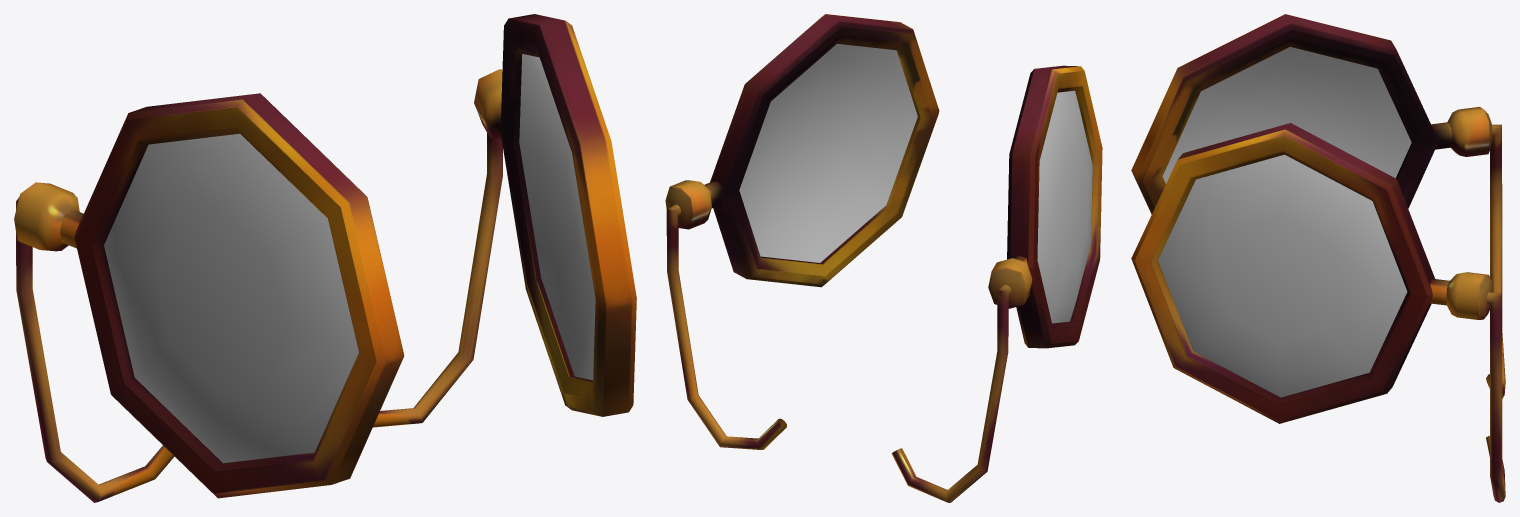
File: Crow Monocles.fbx
3 renders of one model, left to right at view 1: azimuth 30°, elevation 25°; view 2: azimuth 150°, elevation 25°; view 3: azimuth 270°, elevation 25°, orthographic. The views are drawn at different scales.
Parts seen in each view (by area): view 1: Monocle (×2), Monocle_Glass (×2); view 2: Monocle (×2), Monocle_Glass (×2); view 3: Monocle_Glass (×2), Monocle (×2).
Part boxes in pixels (x1,y1,x2,y2): Monocle (×2): [14, 14, 636, 502]; Monocle_Glass (×2): [104, 54, 595, 463]; Monocle (×2): [665, 14, 1102, 502]; Monocle_Glass (×2): [739, 43, 1092, 323]; Monocle_Glass (×2): [1158, 47, 1411, 397]; Monocle (×2): [1131, 14, 1505, 502].
Size of the model in its own units: 1.27 by 1.2 by 1.09.
